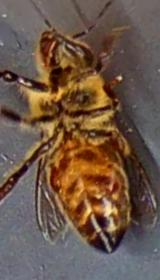varroa_mite: (38, 163, 66, 194)
